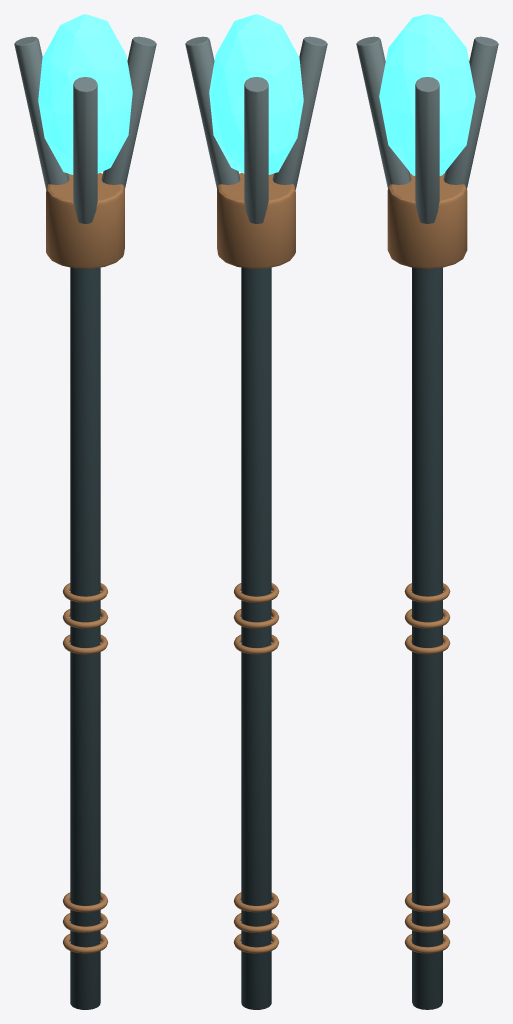
Rendered from SM_AetherStaff.fbx.
The picture shows the model from 3 angles, left to right: view 1: azimuth 30°, elevation 25°; view 2: azimuth 150°, elevation 25°; view 3: azimuth 270°, elevation 25°; orthographic projection.
Visible parts, largest first — view 1: SM_AetherStaff; view 2: SM_AetherStaff; view 3: SM_AetherStaff.
Boxes of the visible parts, x1=… form: SM_AetherStaff: x1=14, y1=14, x2=156, y2=1009; SM_AetherStaff: x1=185, y1=14, x2=327, y2=1009; SM_AetherStaff: x1=356, y1=14, x2=498, y2=1009.
Size of what is drawn, in the model's own units: 0.2221 by 0.25 by 1.92.
